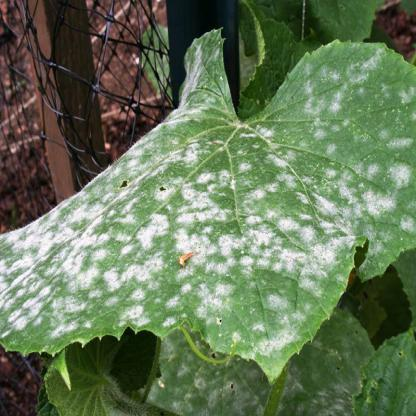Squash Powdery mildew leaf: (4, 23, 416, 372)
